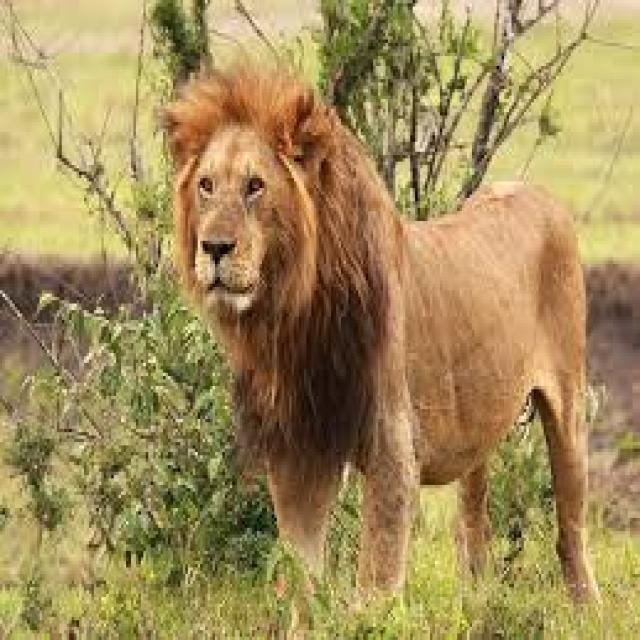Lion: (185, 73, 601, 604)
